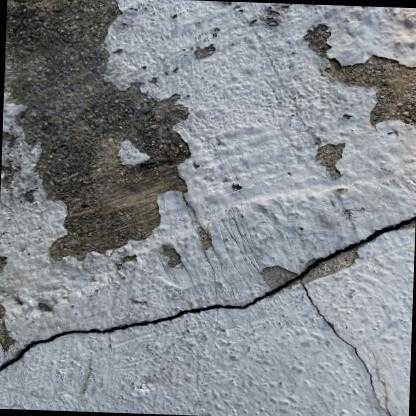crack: (0, 208, 416, 416)
